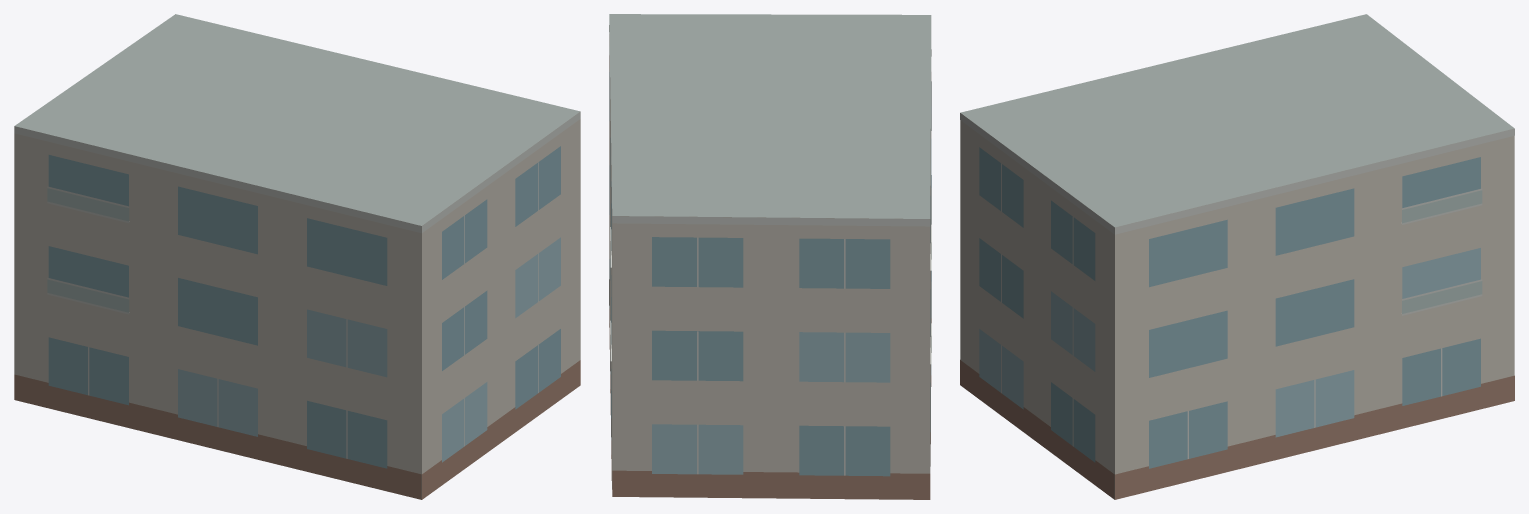
Rendered from survey-upis-32914000.glb.
3 views of the same model, side by side, from view 1: azimuth 30°, elevation 25°; view 2: azimuth 150°, elevation 25°; view 3: azimuth 270°, elevation 25° (orthographic). The views are drawn at different scales.
Parts seen in each view (by area): view 1: survey-upis-32914000.tmp; view 2: survey-upis-32914000.tmp; view 3: survey-upis-32914000.tmp.
Boxes of the visible parts, x1,y1,x2,y2 form: survey-upis-32914000.tmp: [14, 14, 580, 499]; survey-upis-32914000.tmp: [609, 14, 931, 499]; survey-upis-32914000.tmp: [960, 14, 1514, 499].
Size of the model in its own units: 15.38 by 9.15 by 16.89.
